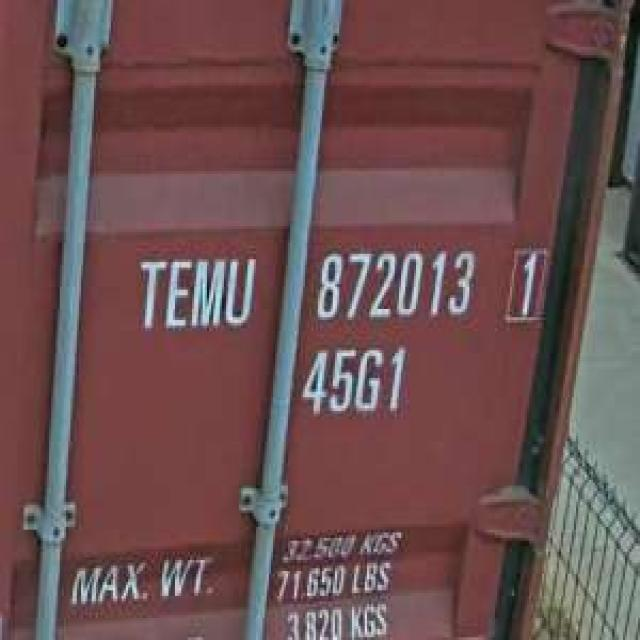dv: (502, 240, 548, 328)
owner: (132, 246, 258, 340)
serial: (307, 240, 478, 331)
size: (296, 339, 409, 425)
